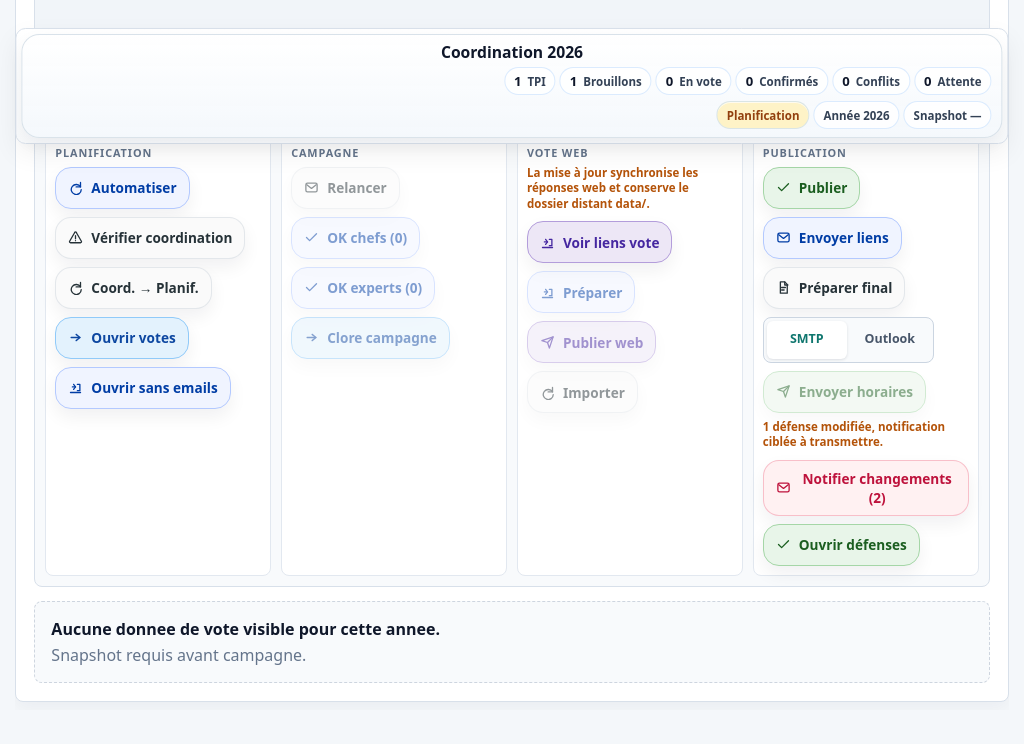
Test: PlanningDashboard › transmet les notifications ciblées après changement de publication des défenses
(page scrolled)
Click the button with aria-label "notifier les changements des défenses" at (866, 488), box [763,460,969,516]
(page scrolled)
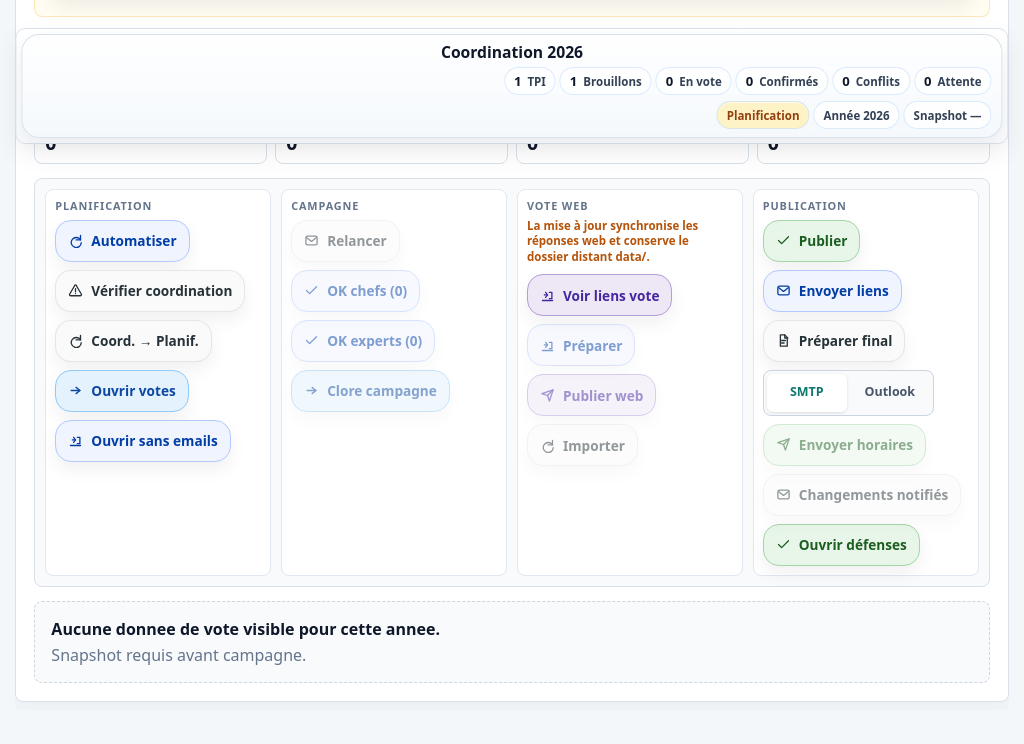
Now the button with aria-label "notifier les changements des défenses" is disabled, box [763,474,961,516]
